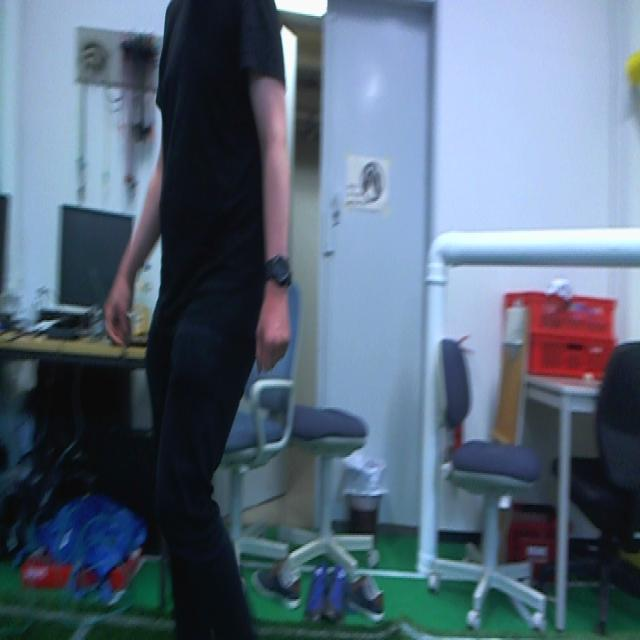goalpost: (416, 237, 447, 583)
